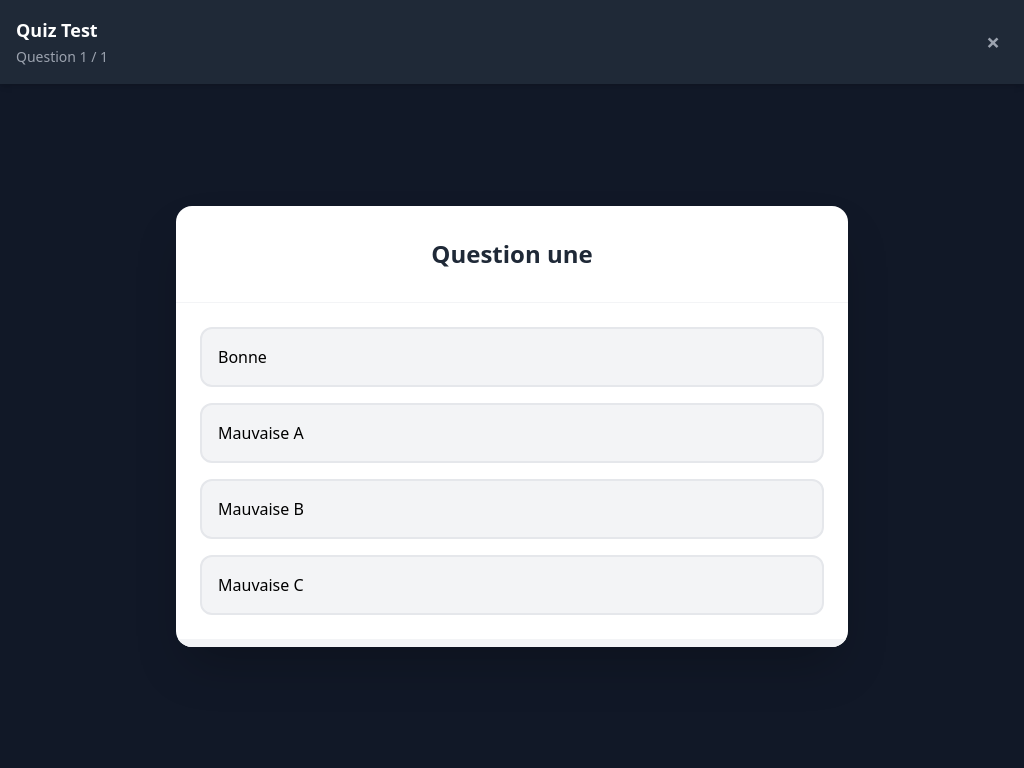
QuizGame — récapitulatif affiché en fin de quiz › affiche "Récapitulatif de vos réponses" après toutes les questions
Click the button "Bonne". click: click(242, 356)
box: left=200, top=326, right=824, bottom=386
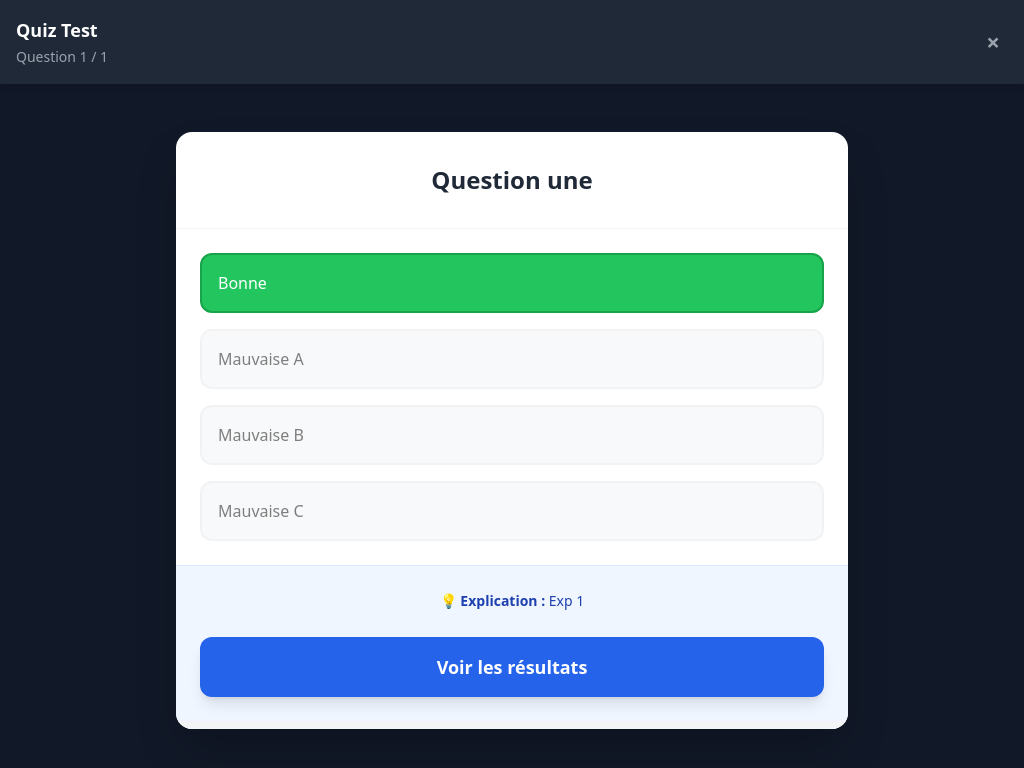
Click the button "Voir les résultats". click: click(512, 667)
box: left=200, top=637, right=824, bottom=697
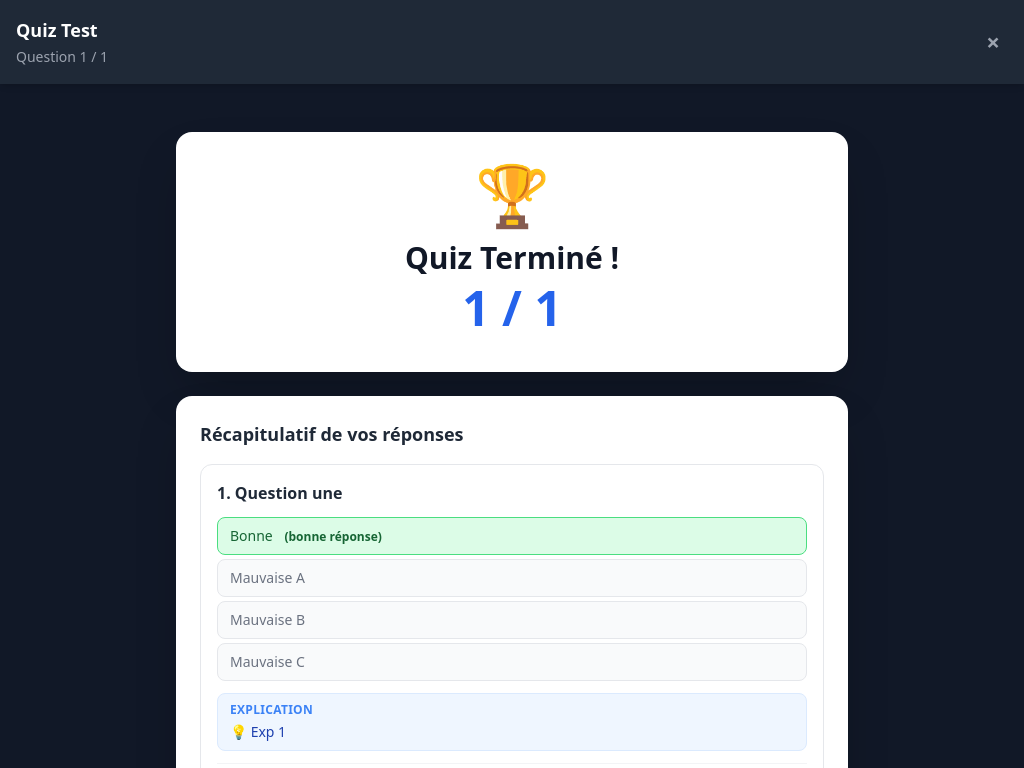
Check: the text "Récapitulatif de vos réponses" is shown, box left=200, top=422, right=464, bottom=446
